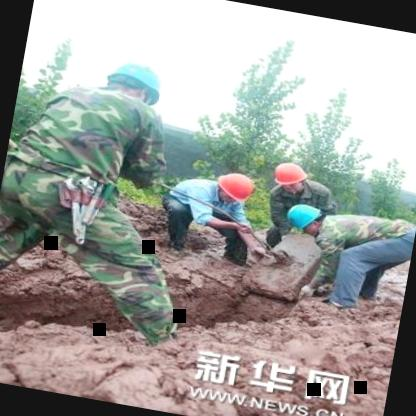helmet: (94, 49, 169, 120), (266, 157, 314, 199), (208, 166, 258, 206), (282, 201, 326, 239)
